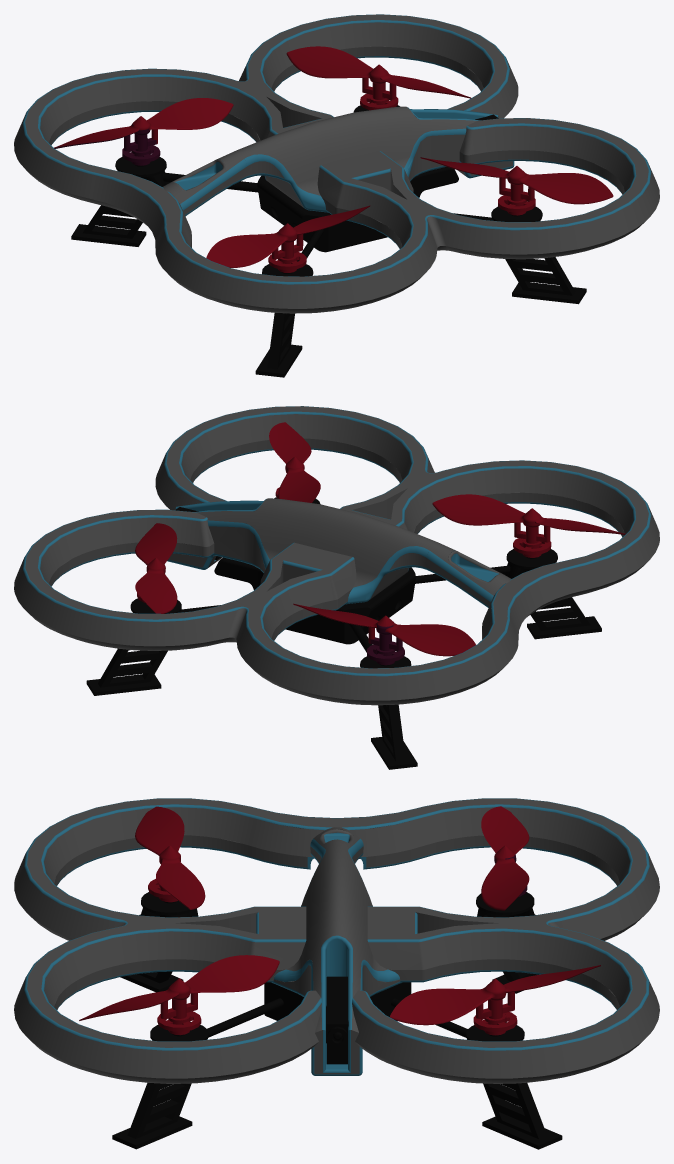
The model's file is rc_quadcopter.gltf.
The picture shows the model from 3 angles, top to bottom: view 1: azimuth 30°, elevation 25°; view 2: azimuth 150°, elevation 25°; view 3: azimuth 270°, elevation 25°; orthographic projection. The views are drawn at different scales.
Parts seen in each view (by area): view 1: Casing, Base, Prop2, Prop3, Prop1, Prop4, Leg2, Leg3, Leg4; view 2: Casing, Base, Prop4, Prop3, Leg4, Leg1, Prop1, Prop2, Leg3; view 3: Casing, Prop1, Prop2, Base, Prop4, Leg1, Leg2, Prop3, Leg4, Leg3.
Boxes of the visible parts, left/top/right/bottom form: Casing: left=14, top=14, right=659, bottom=313; Base: left=162, top=114, right=498, bottom=261; Prop2: left=420, top=157, right=613, bottom=215; Prop3: left=54, top=98, right=233, bottom=165; Prop1: left=286, top=46, right=470, bottom=110; Prop4: left=206, top=205, right=370, bottom=272; Leg2: left=491, top=206, right=586, bottom=304; Leg3: left=71, top=156, right=169, bottom=246; Leg4: left=255, top=261, right=313, bottom=377; Casing: left=14, top=406, right=659, bottom=705; Base: left=175, top=507, right=510, bottom=653; Prop4: left=432, top=494, right=625, bottom=557; Prop3: left=293, top=603, right=475, bottom=665; Leg4: left=503, top=549, right=601, bottom=639; Leg1: left=86, top=598, right=181, bottom=695; Prop1: left=135, top=523, right=177, bottom=613; Prop2: left=269, top=422, right=320, bottom=502; Leg3: left=360, top=653, right=417, bottom=769; Casing: left=14, top=798, right=659, bottom=1083; Prop1: left=390, top=965, right=600, bottom=1035; Prop2: left=79, top=955, right=279, bottom=1035; Base: left=188, top=915, right=487, bottom=1064; Prop4: left=135, top=806, right=205, bottom=909; Leg1: left=466, top=1022, right=562, bottom=1149; Leg2: left=112, top=1022, right=208, bottom=1149; Prop3: left=481, top=806, right=529, bottom=910; Leg4: left=120, top=892, right=198, bottom=992; Leg3: left=476, top=892, right=538, bottom=993.
Size of the model in its own units: 0.5872 by 0.1795 by 0.6154.
